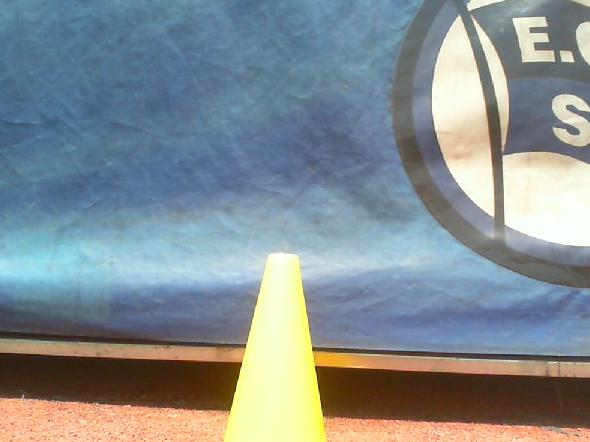0 cone: (204, 253, 355, 442)
